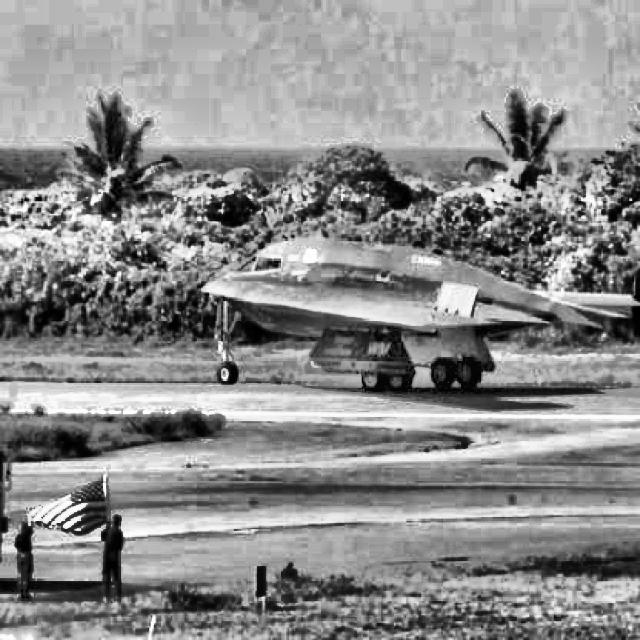B2: (198, 234, 640, 394)
